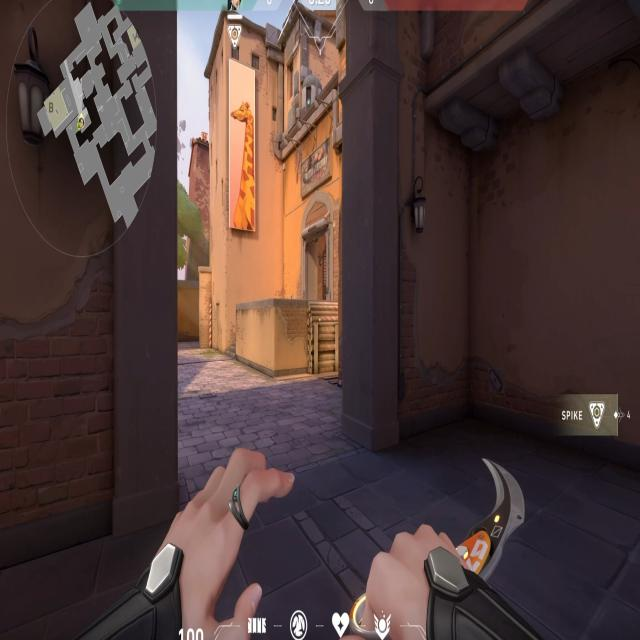B_Cubby: (270, 298, 338, 372)
